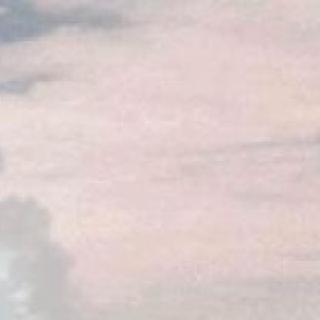smoke: (0, 132, 171, 320)
